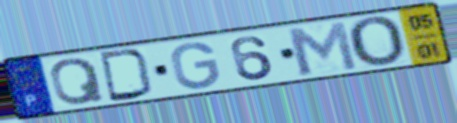6: (228, 35, 276, 82)
D: (96, 48, 156, 104)
G: (169, 40, 222, 91)
M: (283, 19, 361, 77)
O: (344, 15, 408, 69)
Q: (48, 57, 108, 107)
